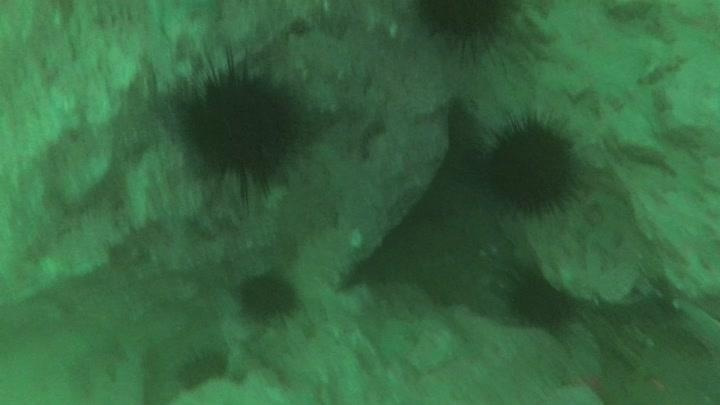echinus: (173, 55, 312, 196), (481, 112, 583, 218), (411, 1, 525, 63), (502, 265, 577, 333), (235, 268, 301, 324), (174, 344, 230, 391)
